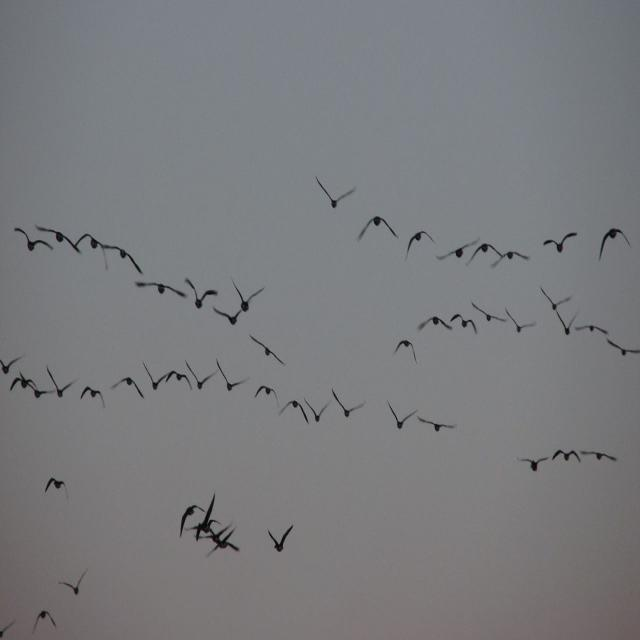bird: (313, 175, 355, 212), (212, 355, 247, 395), (596, 228, 632, 266), (329, 388, 366, 423), (248, 334, 285, 368), (582, 441, 618, 475), (184, 278, 218, 311), (232, 280, 264, 315), (359, 215, 397, 243), (138, 276, 182, 300), (504, 305, 536, 337), (44, 366, 74, 400), (184, 358, 214, 392), (604, 332, 639, 361), (386, 399, 416, 431), (538, 283, 568, 315), (470, 238, 502, 268), (11, 230, 51, 254), (111, 241, 143, 271), (416, 412, 454, 437), (278, 398, 310, 425), (436, 238, 472, 262), (552, 440, 580, 470), (211, 301, 242, 328), (206, 536, 239, 561), (471, 298, 502, 324), (576, 319, 610, 342), (267, 526, 293, 556), (114, 375, 146, 399), (546, 233, 579, 256), (417, 312, 452, 333), (496, 246, 531, 267), (142, 361, 166, 391), (406, 227, 433, 253), (59, 572, 87, 597), (304, 397, 328, 426), (60, 230, 87, 255), (554, 310, 578, 338), (178, 502, 200, 532), (520, 454, 550, 475), (46, 228, 74, 250), (393, 336, 416, 362), (450, 310, 477, 332), (80, 231, 108, 252), (10, 372, 34, 395), (162, 369, 190, 388), (78, 385, 102, 406), (34, 610, 57, 631), (252, 383, 276, 403), (1, 354, 20, 376), (44, 477, 66, 495), (27, 384, 48, 402), (0, 620, 14, 638)
